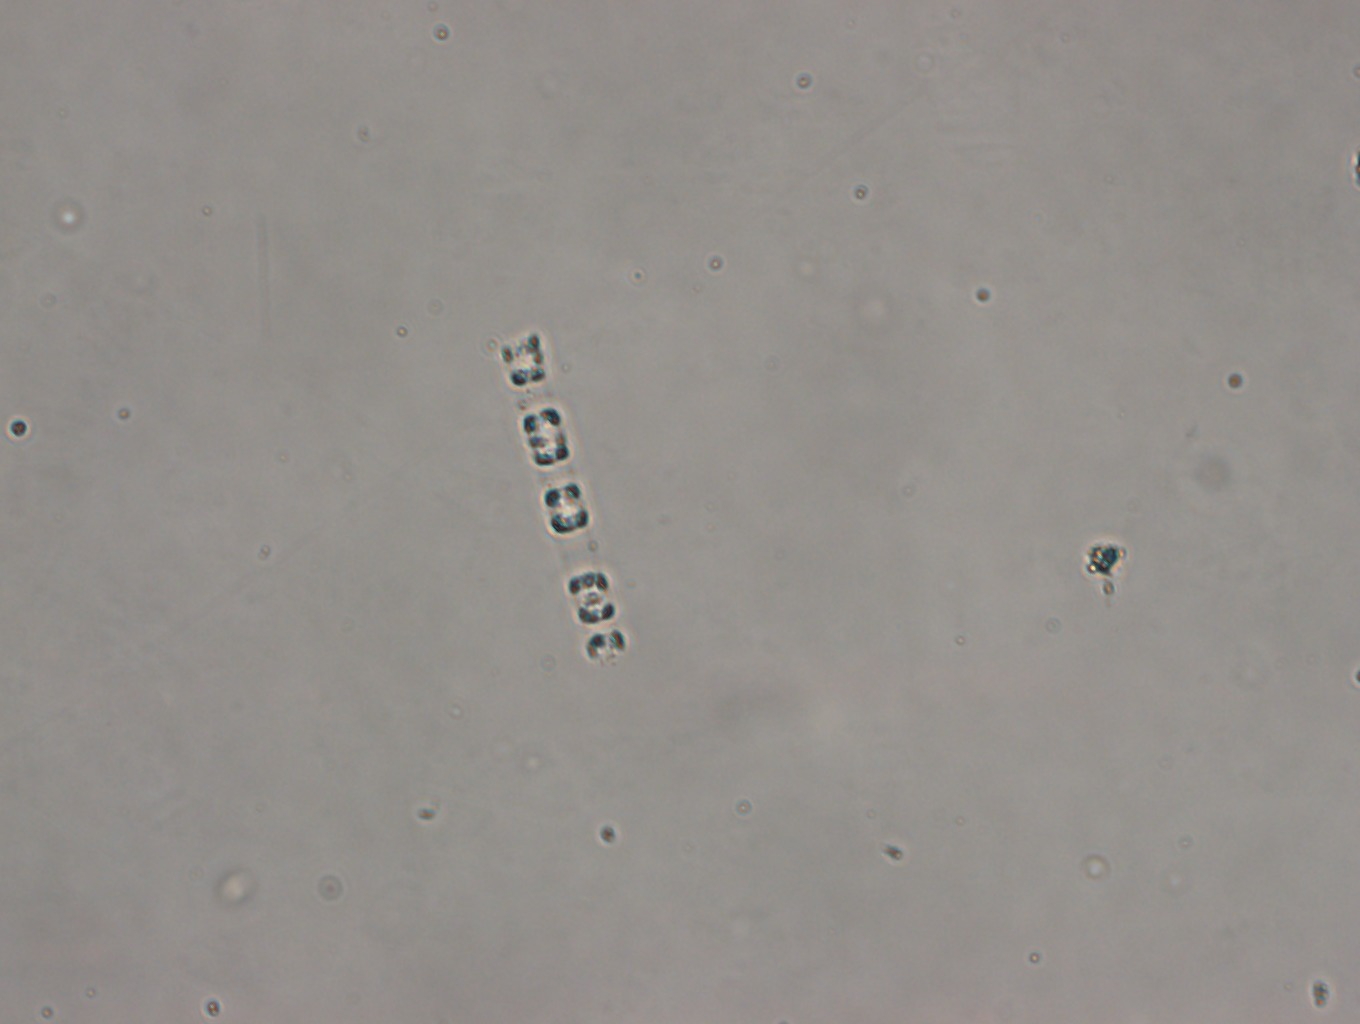skeletonema: (498, 330, 631, 665)
